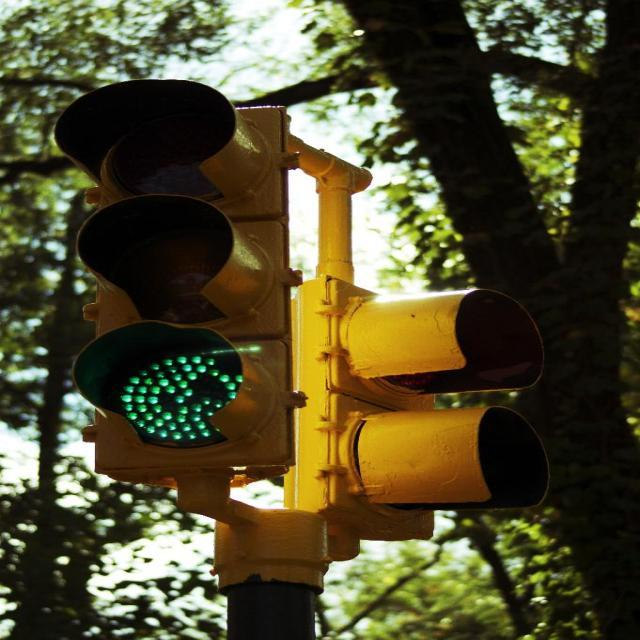off traffic light: (326, 275, 550, 537)
traffic light: (53, 77, 292, 470)
